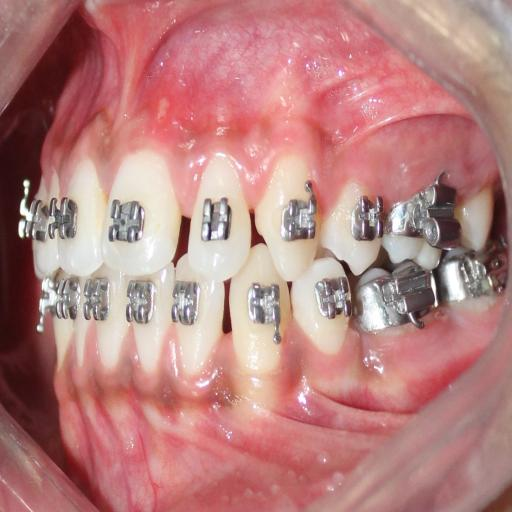correct_brace: (320, 183, 387, 278), (275, 181, 316, 250), (105, 192, 148, 250), (199, 188, 233, 248)
incorrect_brace: (189, 147, 252, 283), (350, 177, 384, 251)
